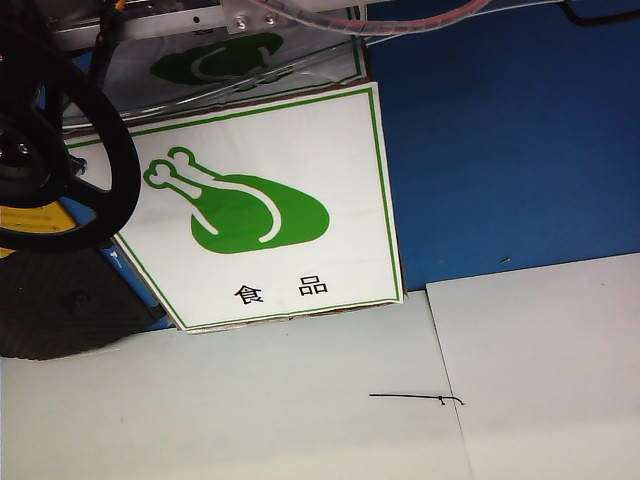Cube_food: (141, 139, 348, 311)
